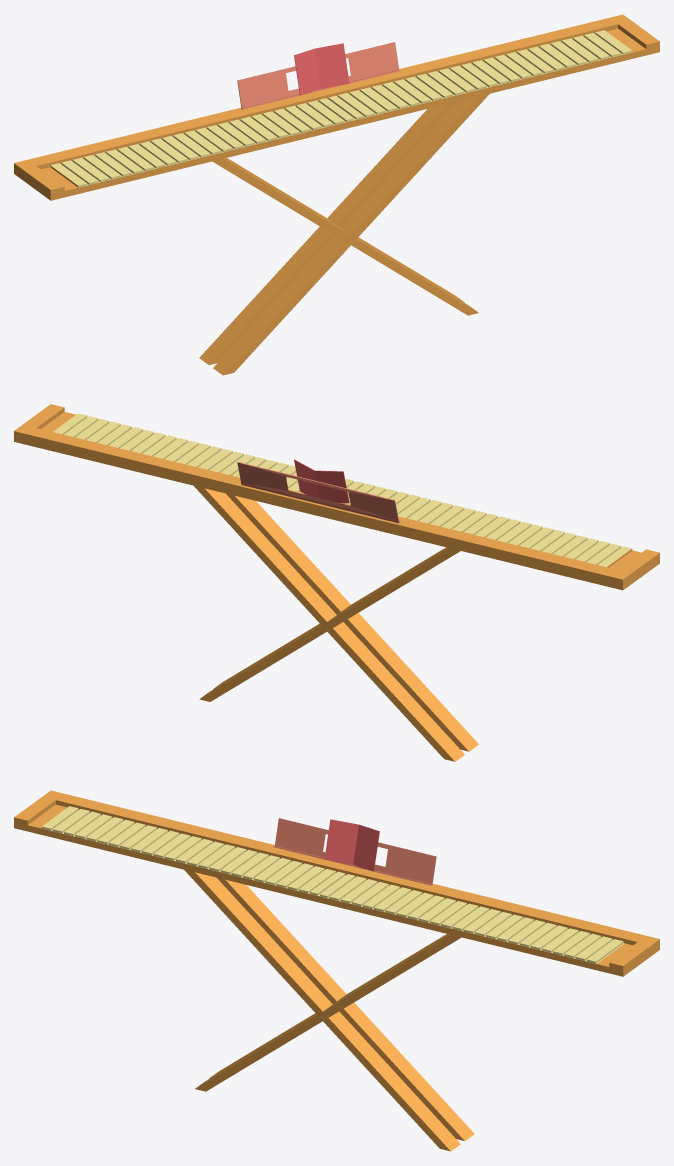
Rendered from painoReal.fbx.
The picture shows the model from 3 angles, top to bottom: view 1: azimuth 30°, elevation 25°; view 2: azimuth 150°, elevation 25°; view 3: azimuth 330°, elevation 25°; orthographic projection.
Parts seen in each view (by area): view 1: Cube, Cube.002, Sheetstand, Cube.001; view 2: Cube, Cube.002, Sheetstand, Cube.001; view 3: Cube, Cube.002, Sheetstand, Cube.001.
Boxes of the visible parts, x1,y1,x2,y2 form: Cube: [14, 14, 659, 200]; Cube.002: [199, 93, 489, 375]; Sheetstand: [237, 42, 400, 109]; Cube.001: [294, 43, 349, 95]; Cube: [14, 404, 659, 590]; Cube.002: [194, 486, 478, 761]; Sheetstand: [237, 462, 400, 523]; Cube.001: [294, 459, 349, 503]; Cube: [14, 790, 659, 976]; Cube.002: [184, 869, 474, 1151]; Sheetstand: [273, 818, 436, 885]; Cube.001: [324, 819, 379, 871].
Size of the model in its own units: 347 by 148 by 40.24.
4 materials, 4 textured.
